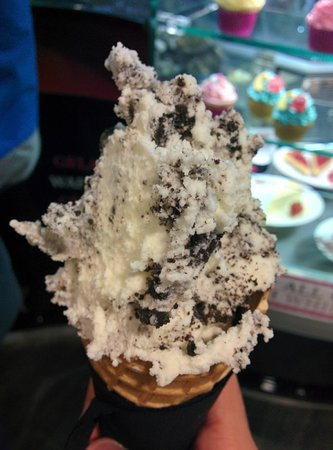ice-cream: (52, 47, 281, 367)
